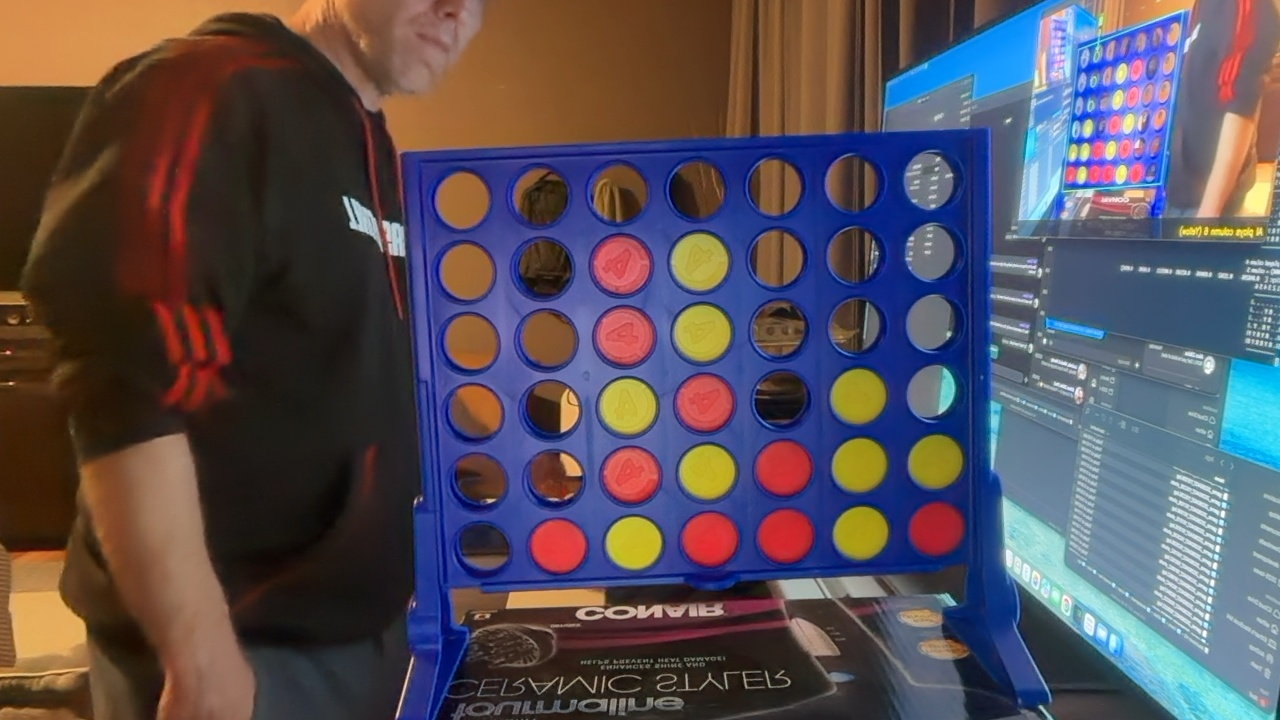red piece: (591, 235, 652, 296), (594, 307, 655, 367), (675, 374, 735, 432), (601, 447, 660, 504), (755, 440, 813, 497), (680, 512, 739, 568), (757, 509, 814, 564), (529, 519, 586, 574), (909, 502, 965, 556)
yellow piece: (670, 232, 730, 292), (597, 378, 658, 436), (673, 303, 732, 362), (677, 444, 737, 501), (829, 368, 887, 425), (605, 516, 663, 571), (831, 438, 887, 493), (908, 434, 964, 489), (833, 506, 888, 561)
